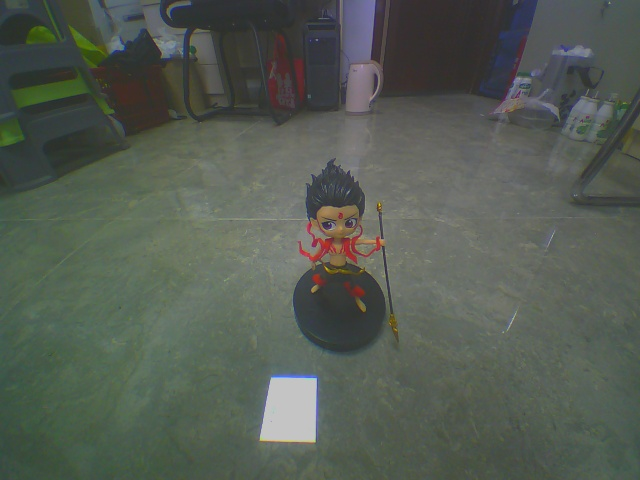Nezha: (290, 162, 439, 380)
